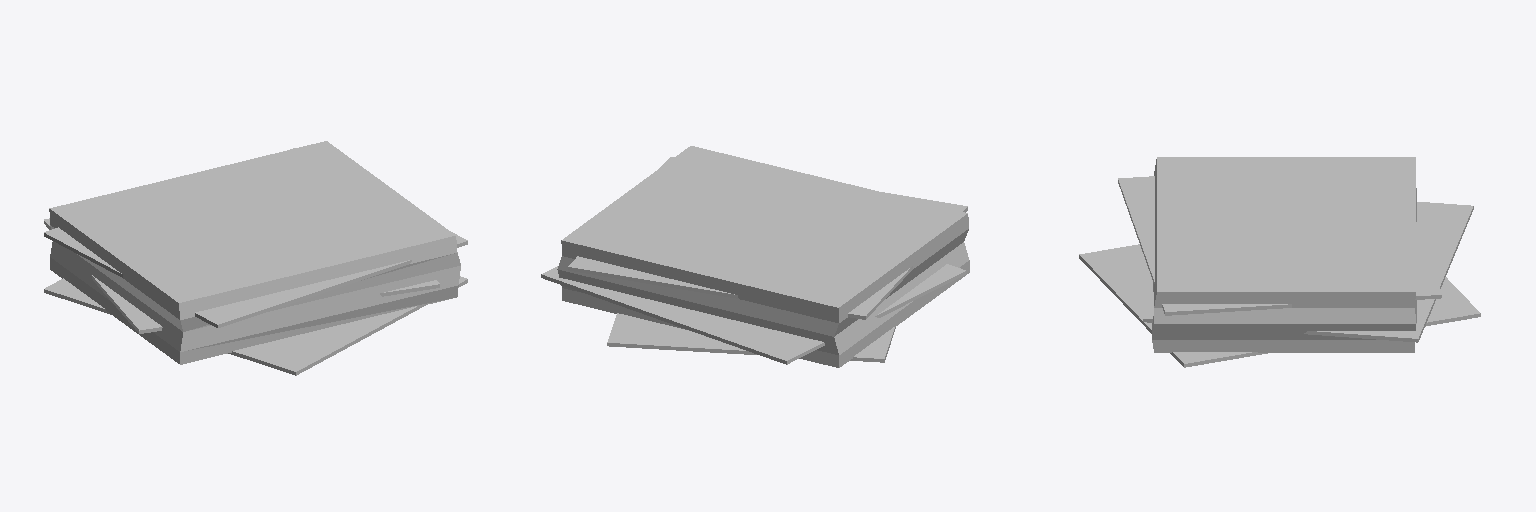
Rendered from PaperStack.obj.
3 renders of one model, left to right at view 1: azimuth 30°, elevation 25°; view 2: azimuth 150°, elevation 25°; view 3: azimuth 270°, elevation 25°, orthographic.
Parts seen in each view (by area): view 1: Cube; view 2: Cube; view 3: Cube.
Part boxes in pixels (left/top/right/bottom): Cube: left=44, top=141, right=467, bottom=375; Cube: left=541, top=146, right=969, bottom=367; Cube: left=1079, top=157, right=1480, bottom=367.
Bounding box in the file's own units: 2.37 × 0.4357 × 2.51.